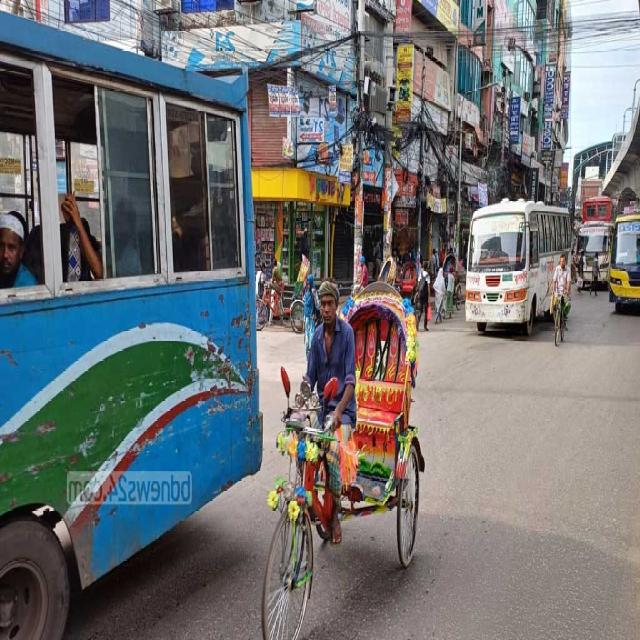Bicycle: (541, 271, 575, 367)
Bus: (1, 69, 274, 640), (463, 192, 578, 368), (600, 182, 640, 336), (566, 205, 623, 302)
Rickshaw: (247, 255, 448, 636), (328, 249, 402, 336), (248, 252, 319, 335), (386, 241, 427, 329)
